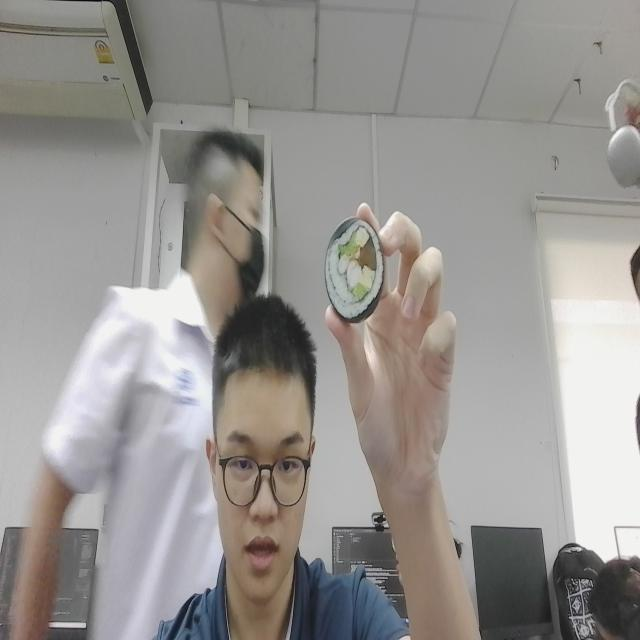sushi: (321, 208, 387, 332)
